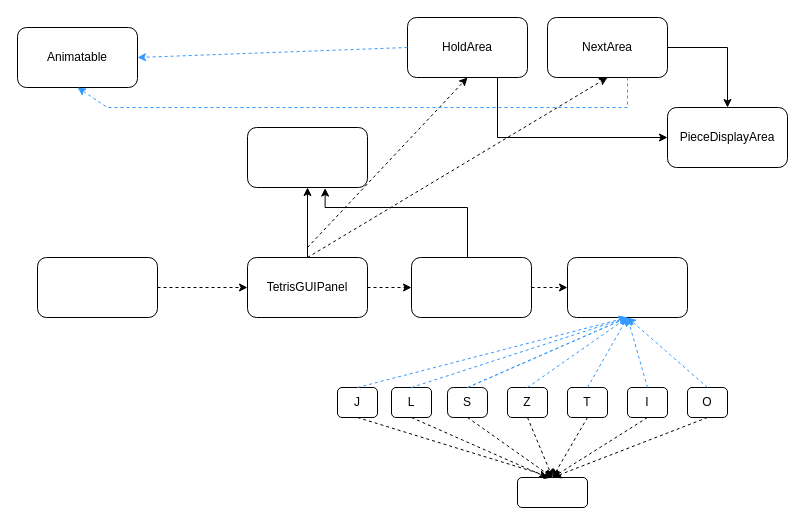
This 805x525 diagram has some shape labels left out. Each missing label, with the box of its shape:
Block: (516, 476, 588, 508)
Driver: (36, 256, 158, 318)
FallingPiece (abstract): (566, 256, 688, 318)
JPanel: (246, 126, 368, 188)
TetrisGamePanel: (410, 256, 532, 318)
